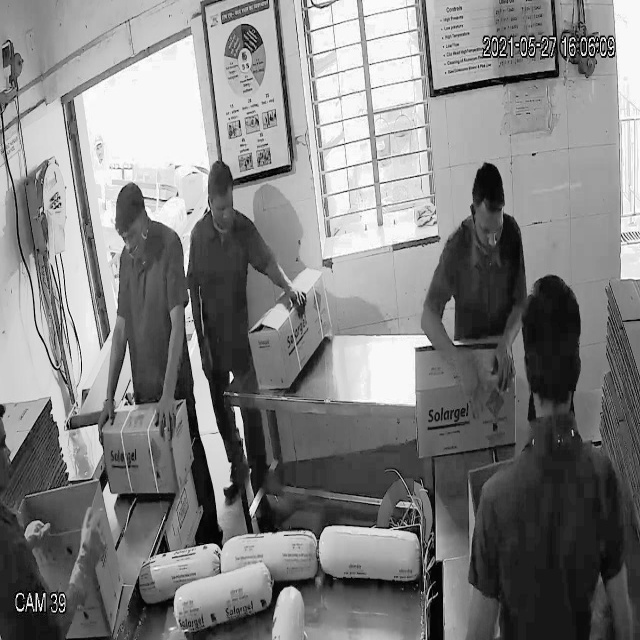Sin_gafas: (467, 209, 510, 248), (114, 219, 145, 254)
